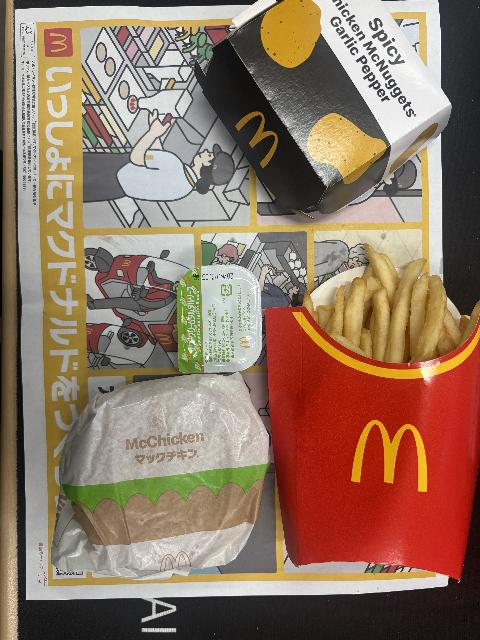burger: (56, 373, 275, 577)
fries: (263, 242, 480, 583)
nuggets: (195, 0, 453, 219)
sauce: (177, 267, 265, 372)
